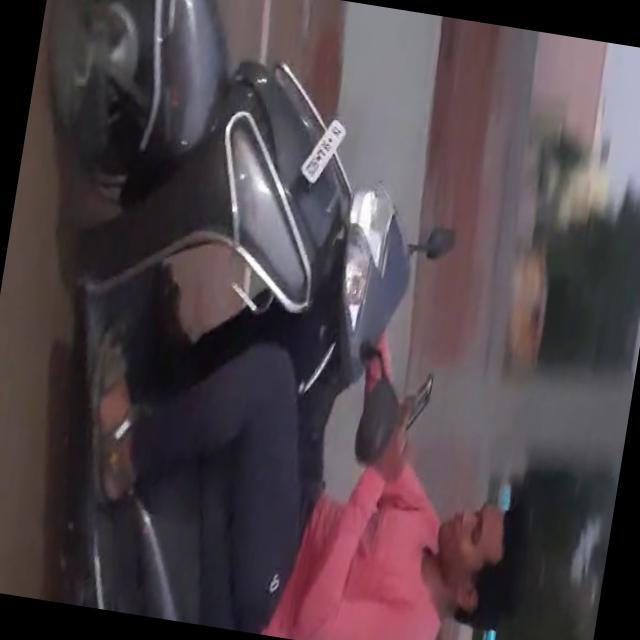USING_MOBILE: (350, 366, 563, 640)
